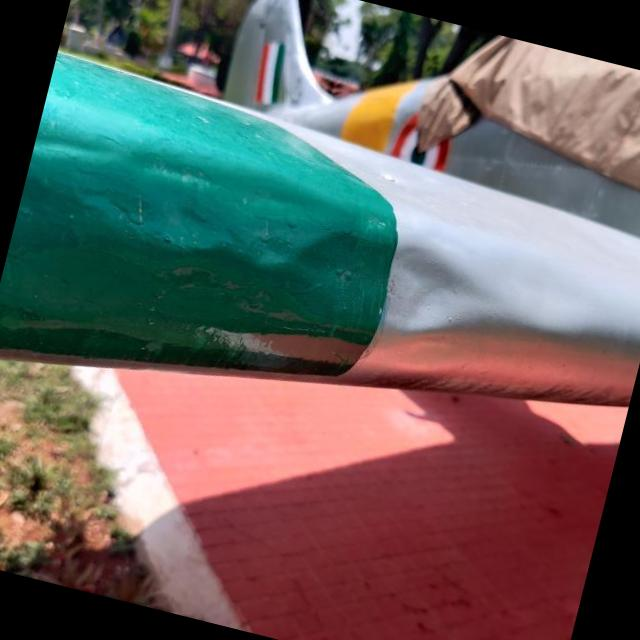Dent: (368, 206, 510, 355)
